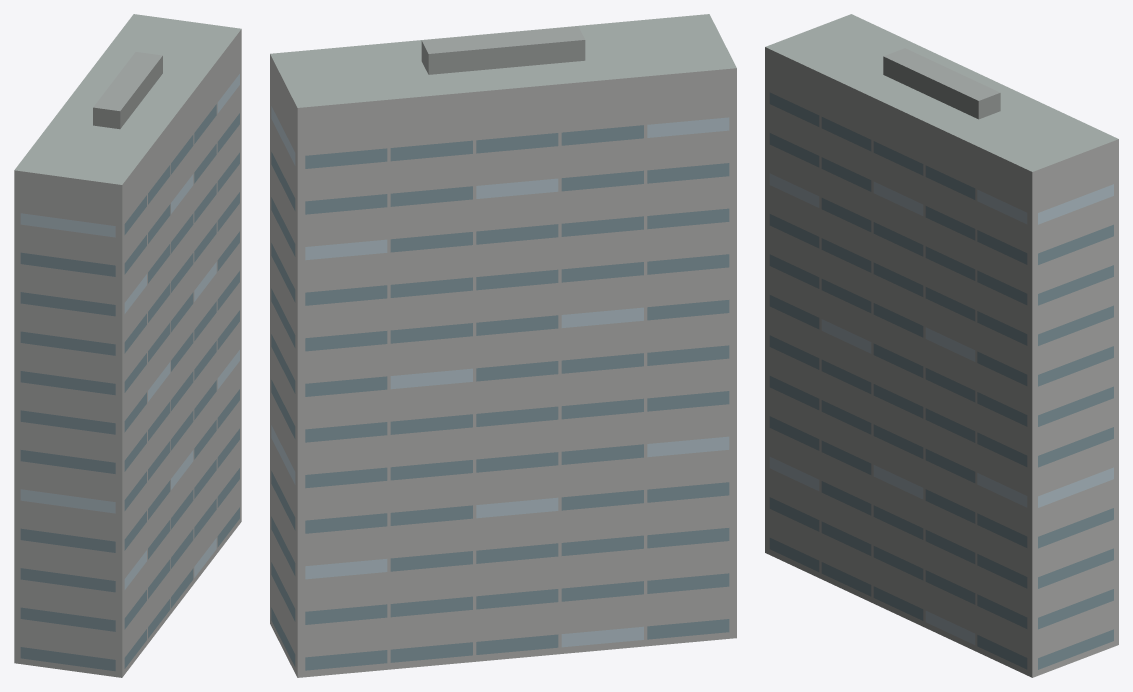
File: apt-a14210001.glb
3 views of the same model, side by side, from view 1: azimuth 30°, elevation 25°; view 2: azimuth 150°, elevation 25°; view 3: azimuth 270°, elevation 25° (orthographic). The views are drawn at different scales.
Visible parts, largest first — view 1: apt-a14210001; view 2: apt-a14210001; view 3: apt-a14210001.
Part boxes in pixels (box(x1,y1,x2,y2)): apt-a14210001: box(14, 14, 241, 677); apt-a14210001: box(270, 14, 736, 677); apt-a14210001: box(765, 14, 1118, 677).
Size of the model in its own units: 43.96 by 68 by 41.59.
